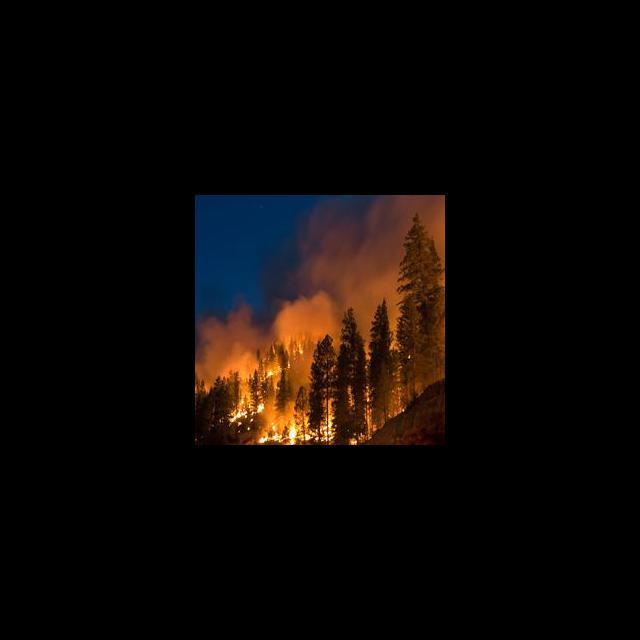Fire: (258, 414, 334, 445), (229, 403, 263, 427), (266, 362, 282, 378), (297, 342, 305, 354)
Smoke: (269, 207, 386, 312), (197, 309, 256, 369)
